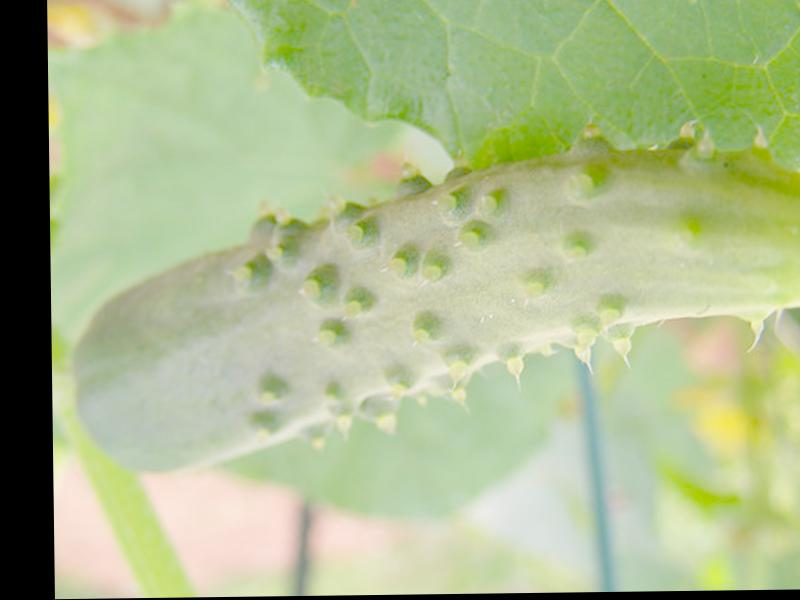Cucumber: (66, 133, 800, 473)
